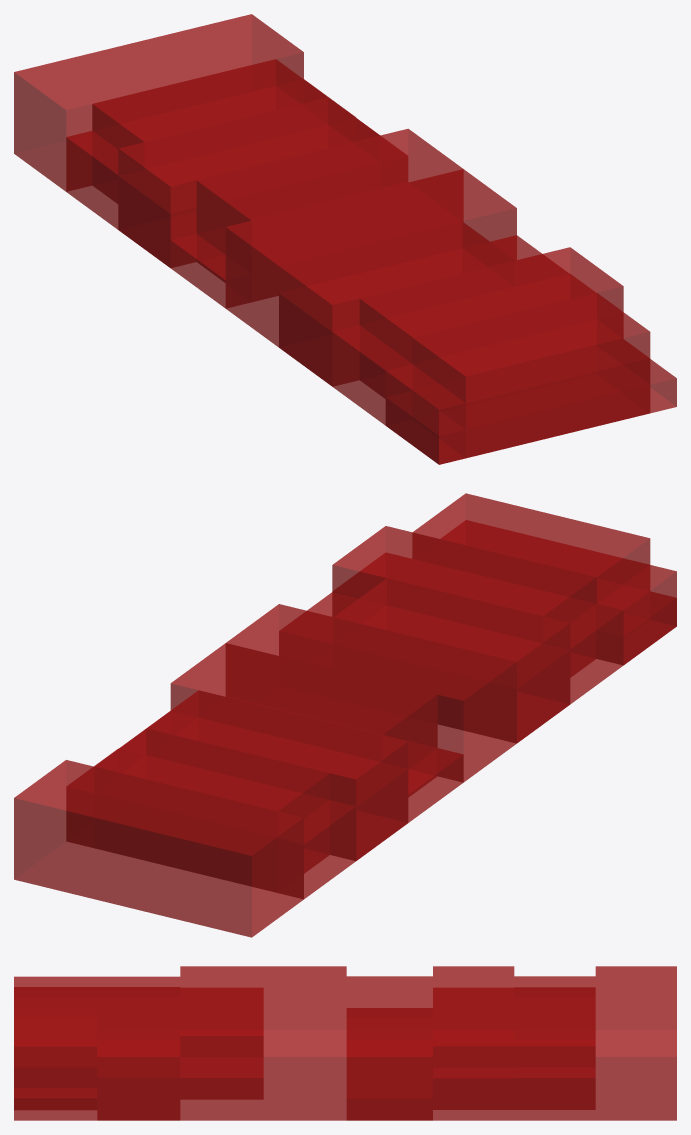
The model's file is SM_Veh_ContainerShip_Containers_01_Collision.fbx.
3 views of the same model, one above another, from view 1: azimuth 30°, elevation 25°; view 2: azimuth 150°, elevation 25°; view 3: azimuth 270°, elevation 25° (orthographic). The views are drawn at different scales.
Parts seen in each view (by area): view 1: SM_Veh_ContainerShip_Containers_01_Collision; view 2: SM_Veh_ContainerShip_Containers_01_Collision; view 3: SM_Veh_ContainerShip_Containers_01_Collision.
Boxes of the visible parts, x1,y1,x2,y2 form: SM_Veh_ContainerShip_Containers_01_Collision: [14, 14, 676, 464]; SM_Veh_ContainerShip_Containers_01_Collision: [14, 493, 676, 937]; SM_Veh_ContainerShip_Containers_01_Collision: [14, 966, 676, 1120].
Size of the model in its own units: 2423 by 795 by 7502.
